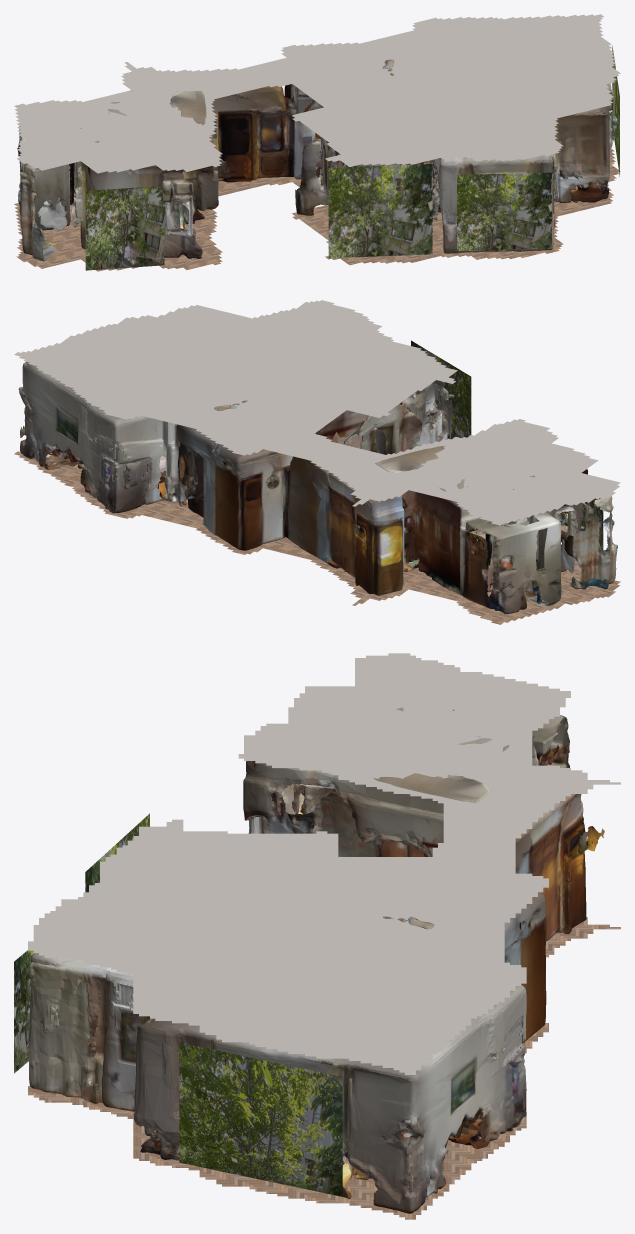
The model's file is house_clean.glb.
3 renders of one model, top to bottom at view 1: azimuth 30°, elevation 25°; view 2: azimuth 150°, elevation 25°; view 3: azimuth 270°, elevation 25°, orthographic. The views are drawn at different scales.
Visible parts, largest first — view 1: slab_ceiling, mesh, backdrop_wc, slab_floor, backdrop_far, backdrop_bedroom, backdrop_living; view 2: mesh, slab_ceiling, slab_floor, backdrop_wc; view 3: slab_ceiling, mesh, backdrop_living, slab_floor, backdrop_far, backdrop_wc.
Boxes of the visible parts, x1,y1,x2,y2 form: slab_ceiling: (14, 14, 620, 173); mesh: (17, 59, 617, 261); backdrop_wc: (328, 164, 432, 258); slab_floor: (14, 148, 620, 271); backdrop_far: (457, 172, 551, 250); backdrop_bedroom: (85, 186, 164, 270); backdrop_living: (612, 45, 619, 176); mesh: (18, 361, 617, 613); slab_ceiling: (14, 300, 620, 525); slab_floor: (14, 446, 620, 624); backdrop_wc: (411, 340, 471, 439); slab_ceiling: (28, 653, 620, 1074); mesh: (28, 707, 604, 1213); backdrop_living: (179, 1042, 342, 1196); slab_floor: (28, 917, 620, 1219); backdrop_far: (14, 950, 33, 1073); backdrop_wc: (85, 813, 149, 892).
Bounding box in the file's own units: 18 × 3.03 × 10.95.
9 materials, 8 textured.
